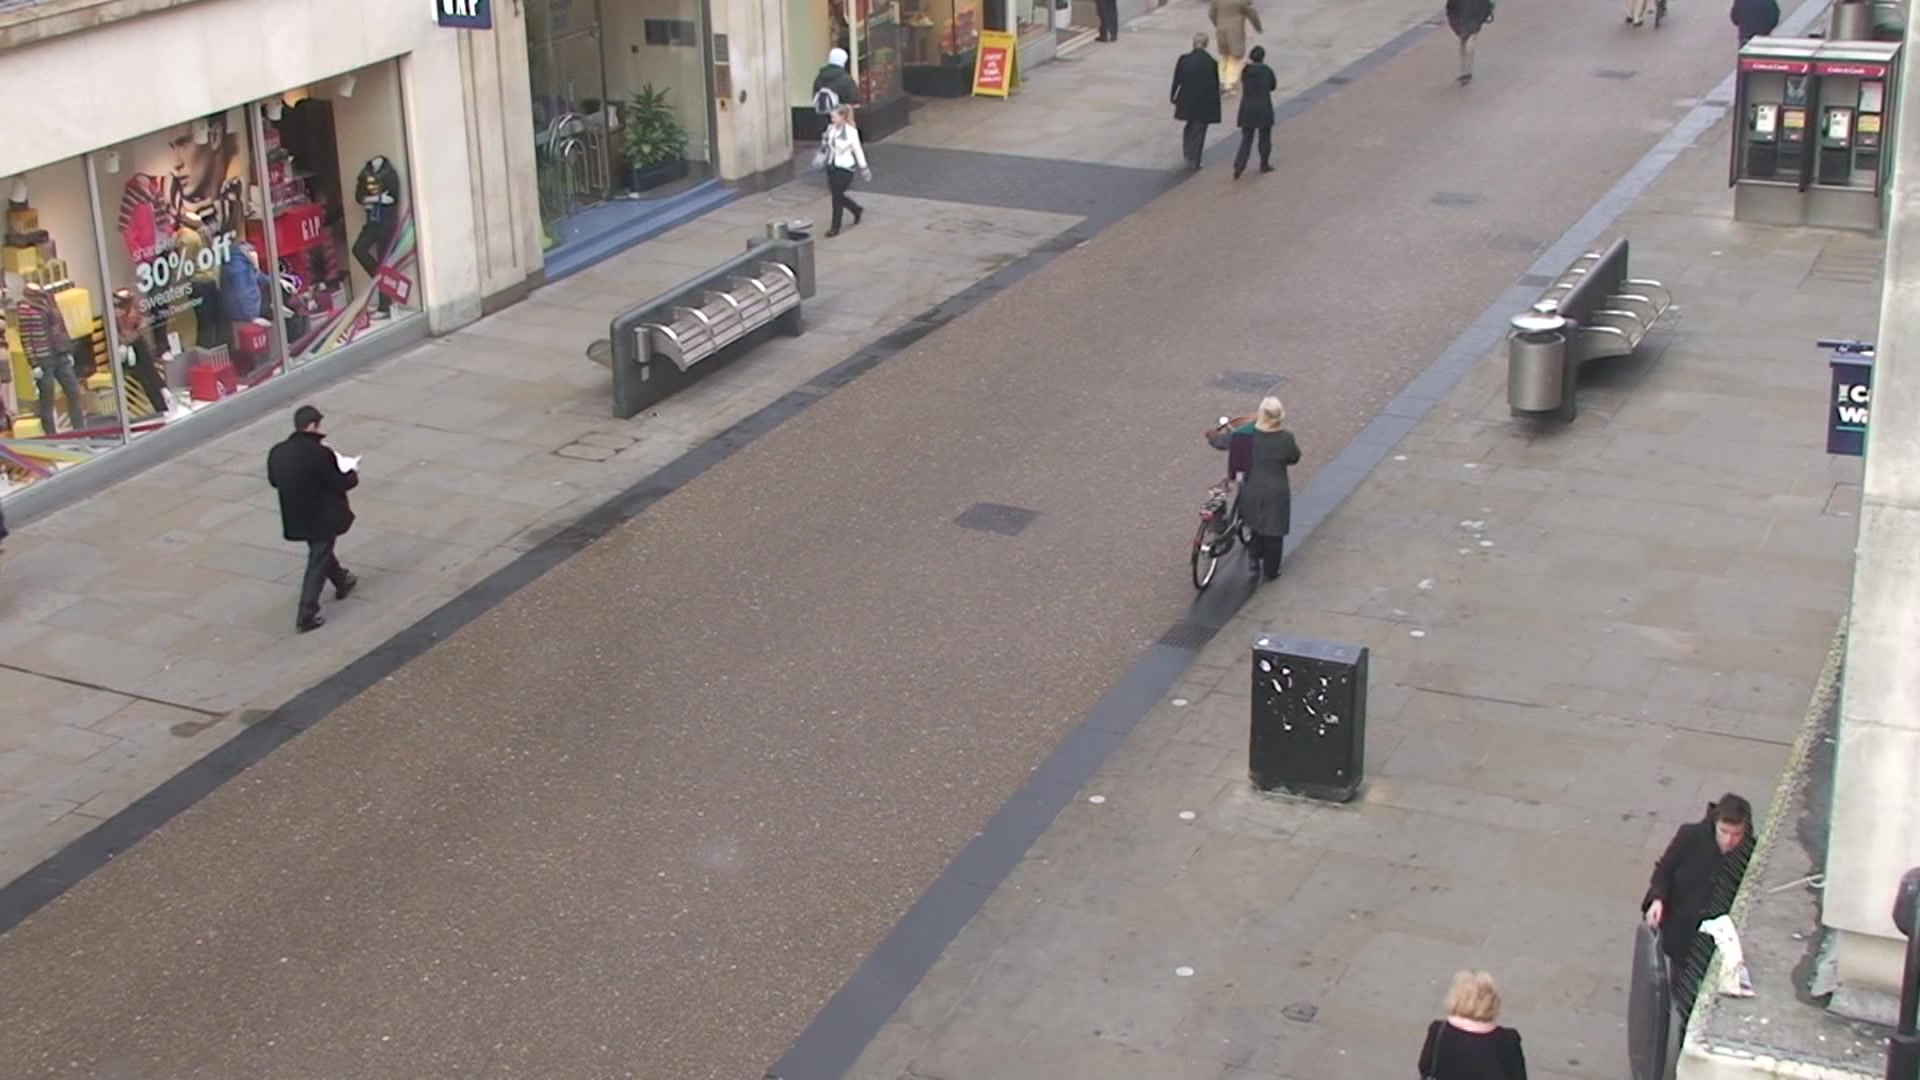person: (271, 406, 361, 636), (1206, 398, 1306, 580), (1169, 31, 1221, 174), (813, 106, 871, 235), (1236, 44, 1277, 181)
